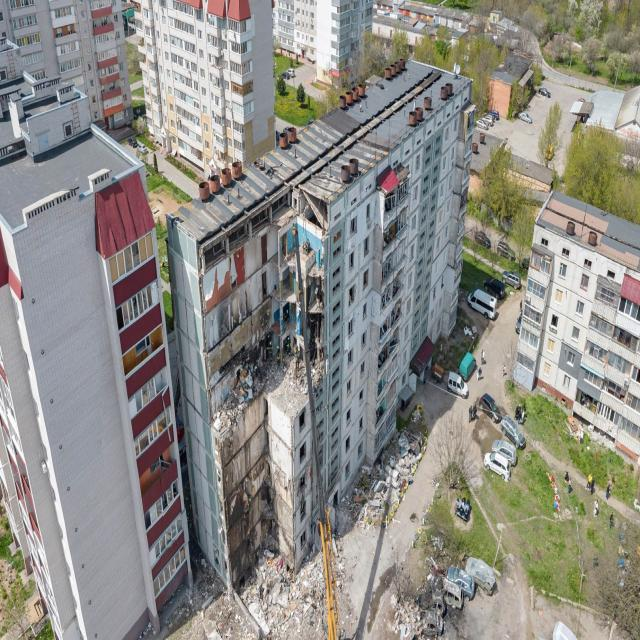building: (164, 56, 476, 593), (513, 187, 640, 460), (133, 0, 276, 178), (0, 0, 134, 133)
roof: (166, 56, 472, 251)
